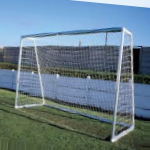goals: (15, 26, 135, 143)
